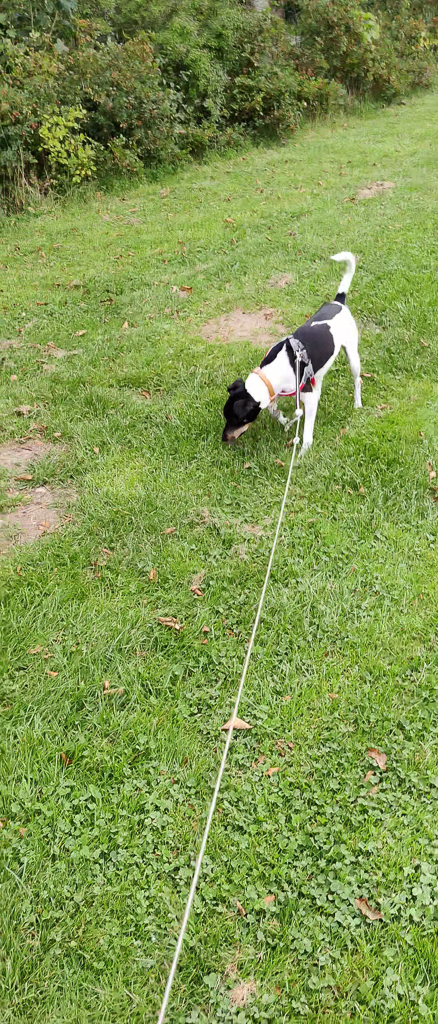Dog: (206, 247, 379, 466)
